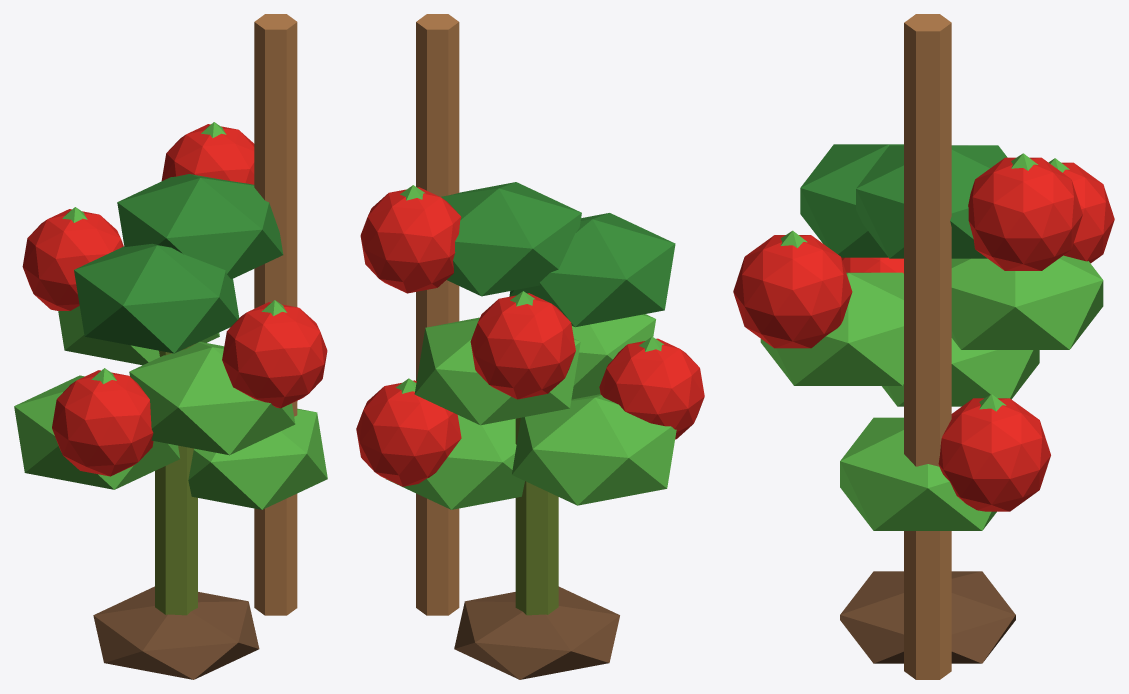
File: crop_tomato_3.glb
3 views of the same model, side by side, from view 1: azimuth 30°, elevation 25°; view 2: azimuth 150°, elevation 25°; view 3: azimuth 270°, elevation 25° (orthographic). The views are drawn at different scales.
Parts seen in each view (by area): view 1: crop_tomato_3; view 2: crop_tomato_3; view 3: crop_tomato_3.
Part boxes in pixels (box(x1,y1,x2,y2)): crop_tomato_3: box(14, 14, 327, 679); crop_tomato_3: box(356, 14, 704, 679); crop_tomato_3: box(733, 14, 1114, 679).
Size of the model in its own units: 0.5949 by 1.23 by 0.624.
